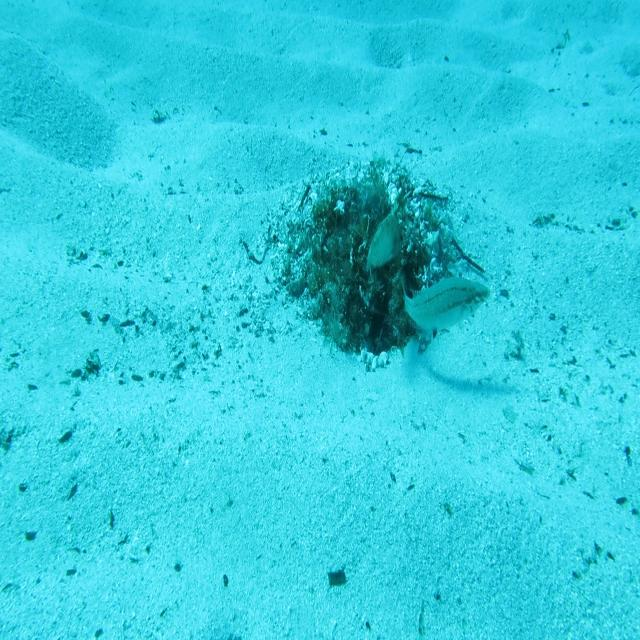ROLL: (362, 199, 406, 270)
core_nest: (338, 199, 388, 248)
female: (399, 269, 491, 343)
nest: (260, 144, 479, 382)
vegetation: (326, 568, 348, 588)
